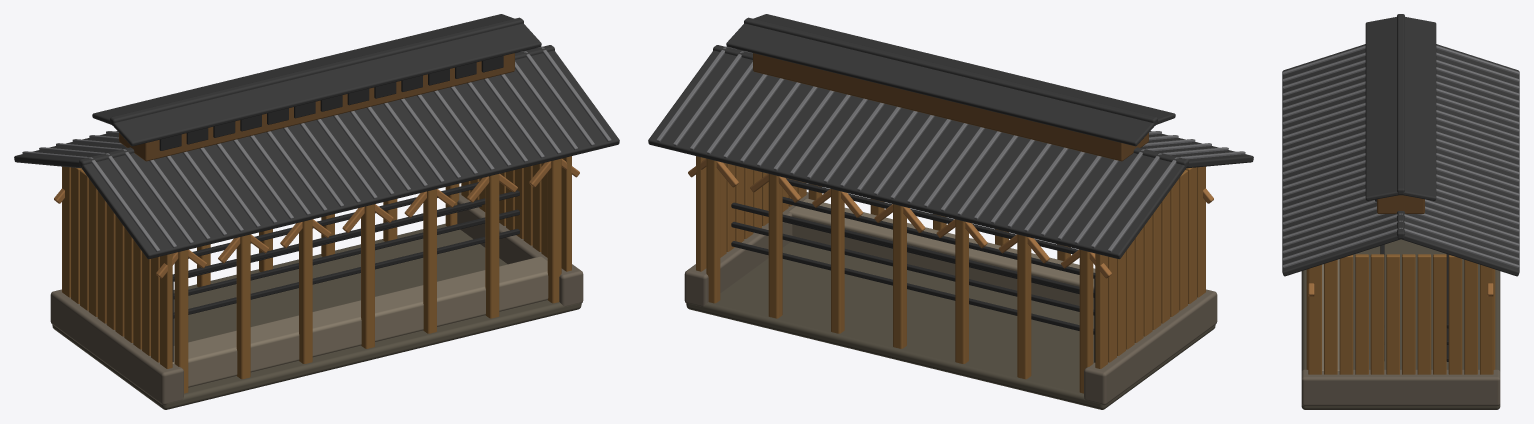
The model's file is cow-barn.glb.
3 views of the same model, side by side, from view 1: azimuth 30°, elevation 25°; view 2: azimuth 150°, elevation 25°; view 3: azimuth 270°, elevation 25° (orthographic). The views are drawn at different scales.
Visible parts, largest first — view 1: cow-barn-farm-roof-slate, cow-barn-farm-wood-dark, cow-barn-farm-stone-dark, cow-barn-farm-metal, cow-barn-farm-stone, cow-barn-farm-window, cow-barn-farm-rock, cow-barn-farm-wood-shadow, cow-barn-farm-wood; view 2: cow-barn-farm-roof-slate, cow-barn-farm-wood-dark, cow-barn-farm-stone-dark, cow-barn-farm-metal, cow-barn-farm-window, cow-barn-farm-rock, cow-barn-farm-wood-shadow, cow-barn-farm-stone, cow-barn-farm-wood; view 3: cow-barn-farm-roof-slate, cow-barn-farm-wood-dark, cow-barn-farm-metal, cow-barn-farm-rock, cow-barn-farm-stone-dark, cow-barn-farm-wood-shadow, cow-barn-farm-stone, cow-barn-farm-window.
Boxes of the visible parts, x1,y1,x2,y2 form: cow-barn-farm-roof-slate: [14, 14, 619, 259]; cow-barn-farm-wood-dark: [62, 156, 571, 393]; cow-barn-farm-stone-dark: [52, 223, 581, 409]; cow-barn-farm-metal: [22, 47, 611, 252]; cow-barn-farm-stone: [172, 256, 548, 387]; cow-barn-farm-window: [159, 56, 519, 361]; cow-barn-farm-rock: [50, 192, 583, 405]; cow-barn-farm-wood-shadow: [119, 53, 514, 161]; cow-barn-farm-wood: [54, 159, 579, 278]; cow-barn-farm-roof-slate: [648, 14, 1253, 259]; cow-barn-farm-wood-dark: [696, 156, 1205, 393]; cow-barn-farm-stone-dark: [686, 241, 1215, 409]; cow-barn-farm-metal: [656, 47, 1245, 252]; cow-barn-farm-window: [731, 178, 1095, 362]; cow-barn-farm-rock: [684, 192, 1217, 405]; cow-barn-farm-wood-shadow: [753, 53, 1148, 161]; cow-barn-farm-stone: [788, 198, 1095, 309]; cow-barn-farm-wood: [688, 159, 1213, 278]; cow-barn-farm-roof-slate: [1282, 14, 1519, 276]; cow-barn-farm-wood-dark: [1306, 254, 1495, 374]; cow-barn-farm-metal: [1282, 45, 1519, 267]; cow-barn-farm-rock: [1301, 369, 1500, 405]; cow-barn-farm-stone-dark: [1301, 239, 1500, 409]; cow-barn-farm-wood-shadow: [1377, 195, 1424, 213]; cow-barn-farm-stone: [1322, 259, 1339, 370]; cow-barn-farm-window: [1375, 199, 1448, 361].
Size of the model in its own units: 7.22 by 3.67 by 3.58.
